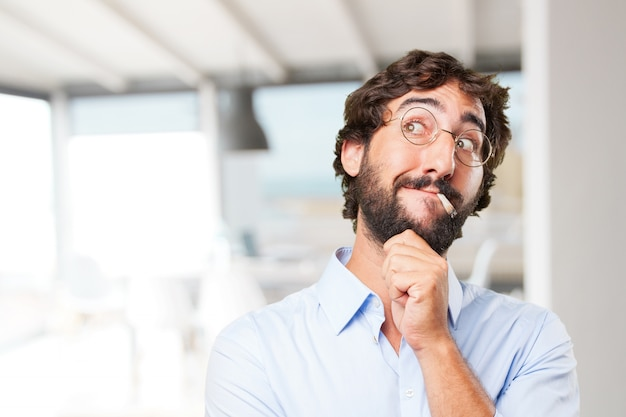cigarette: (434, 191, 458, 219)
